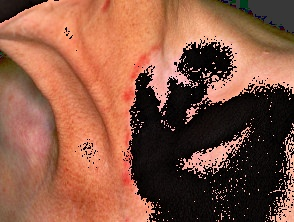vitiligo: (119, 32, 239, 210)
